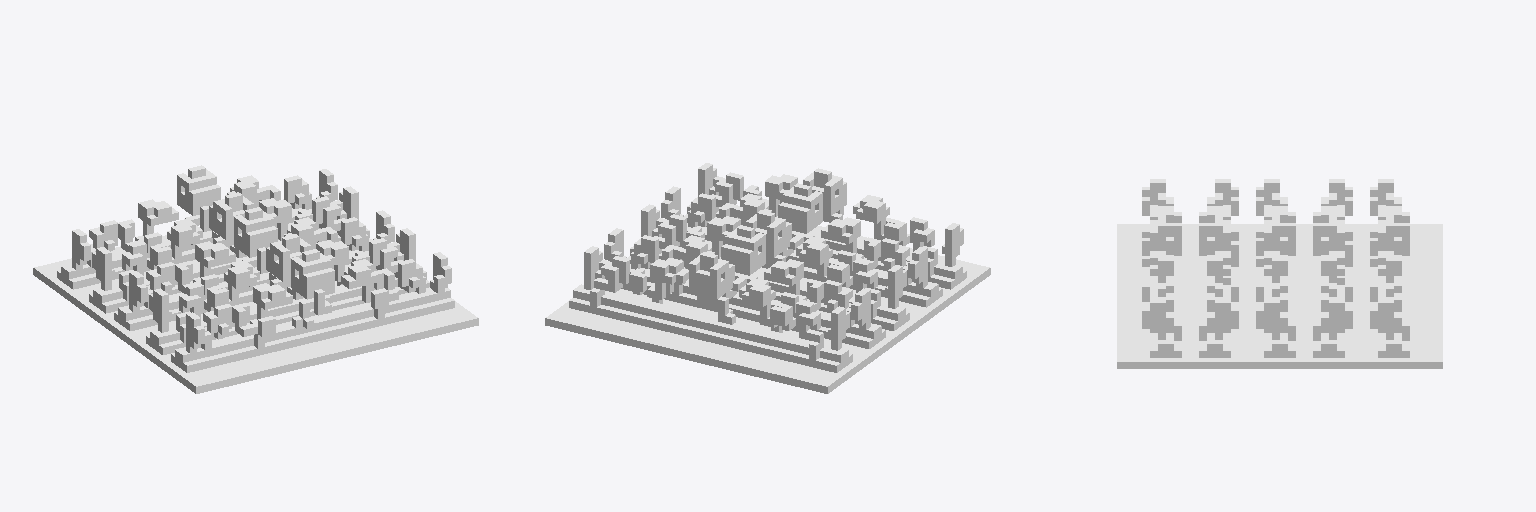
Rendered from Tarim.obj.
3 renders of one model, left to right at view 1: azimuth 30°, elevation 25°; view 2: azimuth 150°, elevation 25°; view 3: azimuth 270°, elevation 25°, orthographic.
Parts seen in each view (by area): view 1: Tarim; view 2: Tarim; view 3: Tarim.
Boxes of the visible parts, x1=… form: Tarim: x1=33, y1=165, x2=478, y2=393; Tarim: x1=545, y1=163, x2=990, y2=393; Tarim: x1=1117, y1=179, x2=1442, y2=368.
Bounding box in the file's own units: 40 × 12 × 40.